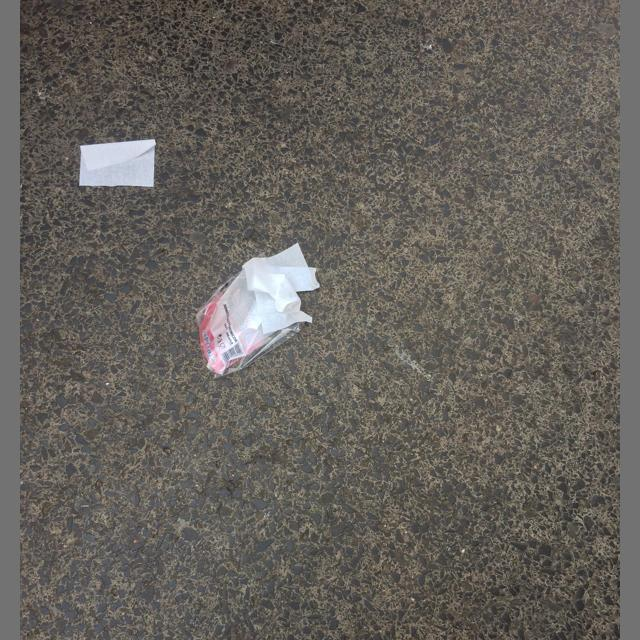litter: (196, 268, 305, 379), (242, 243, 320, 324), (79, 139, 156, 187)
